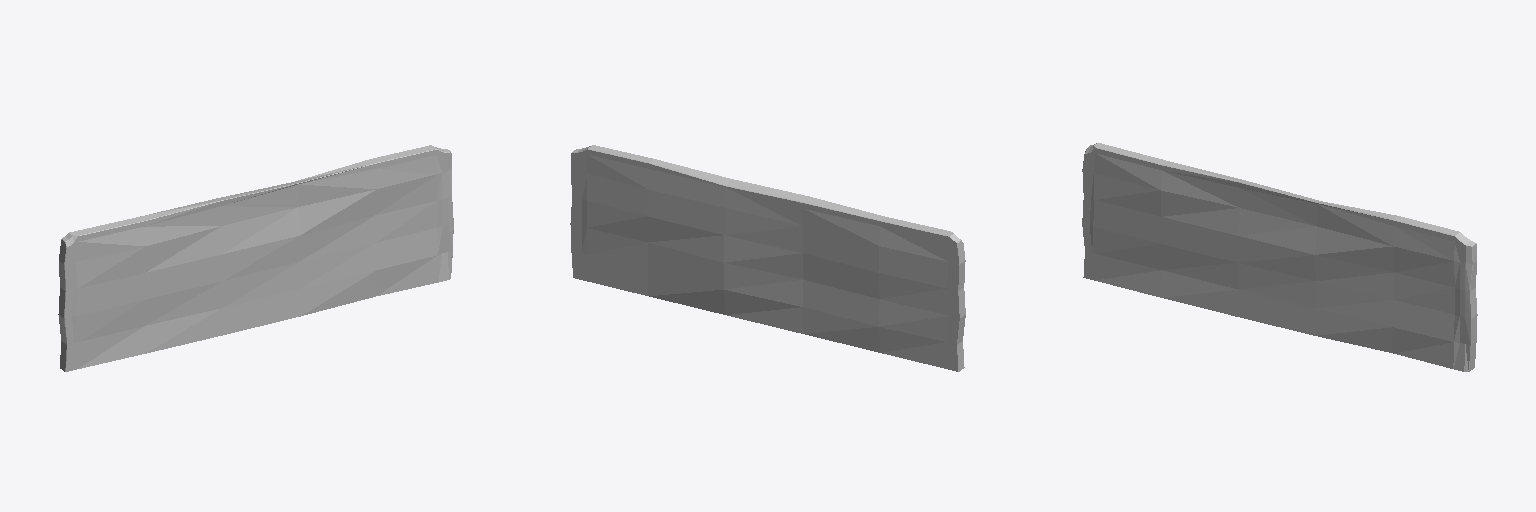
The model's file is Wall.obj.
3 views of the same model, side by side, from view 1: azimuth 30°, elevation 25°; view 2: azimuth 150°, elevation 25°; view 3: azimuth 330°, elevation 25° (orthographic).
Parts seen in each view (by area): view 1: Cube; view 2: Cube; view 3: Cube.
Boxes of the visible parts, box(x1,y1,x2,y2) form: Cube: box(58, 145, 453, 371); Cube: box(570, 145, 965, 371); Cube: box(1082, 143, 1477, 371).
Size of the model in its own units: 5.8 by 1.9 by 0.2411.